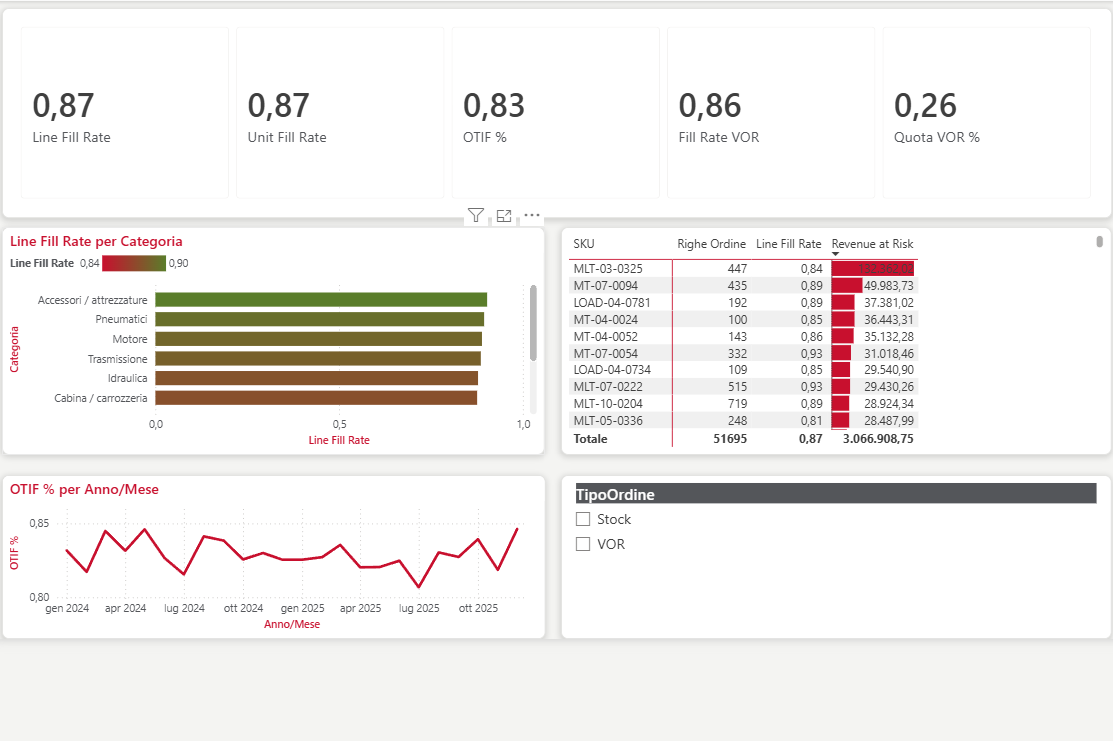

Layout of this report page (visuals, bound fields, positions):
{"tool":"powerbi","page":{"name":"2 - Disponibilita","canvas":[1280,720],"ordinal":1},"visuals":[{"type":"cardVisual","fields":{"Data":["fact_parts_orders.Line Fill Rate","fact_parts_orders.OTIF %","fact_parts_orders.Fill Rate VOR","fact_parts_orders.Quota VOR %"]},"box":[20,20,1240,150],"z":0},{"type":"clusteredBarChart","fields":{"Category":["dim_part_category.Categoria"],"Y":["fact_parts_orders.Line Fill Rate"]},"box":[20,252,490,448],"z":1000},{"type":"lineChart","fields":{"Category":["dim_date.AnnoMese"],"Y":["fact_parts_orders.OTIF %"]},"box":[530,252,730,215],"z":2000},{"type":"pivotTable","fields":{"Rows":["dim_part.SKU"],"Values":["fact_parts_orders.Righe Ordine","fact_parts_orders.Line Fill Rate","fact_parts_orders.Revenue at Risk"]},"box":[530,478,730,222],"z":3000},{"type":"slicer","fields":{"Values":["fact_parts_orders.TipoOrdine"]},"box":[20,182,1240,62],"z":4000}]}

Visuals, with their boxes on the page's 1280x720 design canvas (x1, y1, x2, y2). These are canvas units, not pixel positions in the 1113x741 screenshot, which may show the page scaled, cropped or inside an application window:
cardVisual - fact_parts_orders.Line Fill Rate x fact_parts_orders.OTIF %: 20,20,1260,170
clusteredBarChart - dim_part_category.Categoria x fact_parts_orders.Line Fill Rate: 20,252,510,700
lineChart - dim_date.AnnoMese x fact_parts_orders.OTIF %: 530,252,1260,467
pivotTable - dim_part.SKU x fact_parts_orders.Righe Ordine: 530,478,1260,700
slicer - fact_parts_orders.TipoOrdine: 20,182,1260,244
